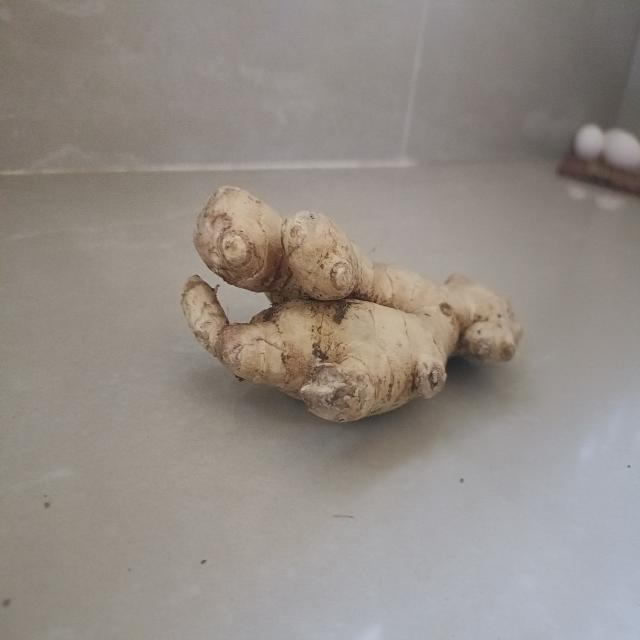ginger: (186, 181, 523, 424)
